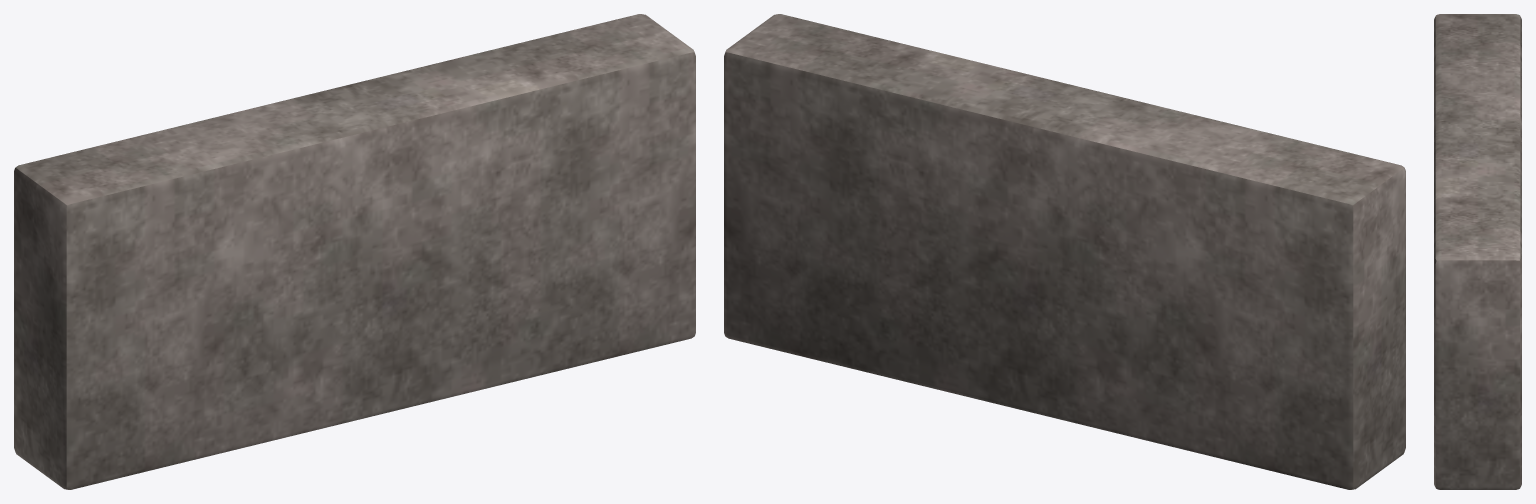
File: PAV-GUI-002_lod1.glb
The picture shows the model from 3 angles, left to right: view 1: azimuth 30°, elevation 25°; view 2: azimuth 150°, elevation 25°; view 3: azimuth 270°, elevation 25°; orthographic projection. The views are drawn at different scales.
Visible parts, largest first — view 1: PAV-GUI-002_peca; view 2: PAV-GUI-002_peca; view 3: PAV-GUI-002_peca.
Boxes of the visible parts, x1,y1,x2,y2 form: PAV-GUI-002_peca: (14,14,695,489); PAV-GUI-002_peca: (724,14,1405,489); PAV-GUI-002_peca: (1434,14,1521,489).
Size of the model in its own units: 0.8 by 0.35 by 0.12.
1 material, 1 textured.
